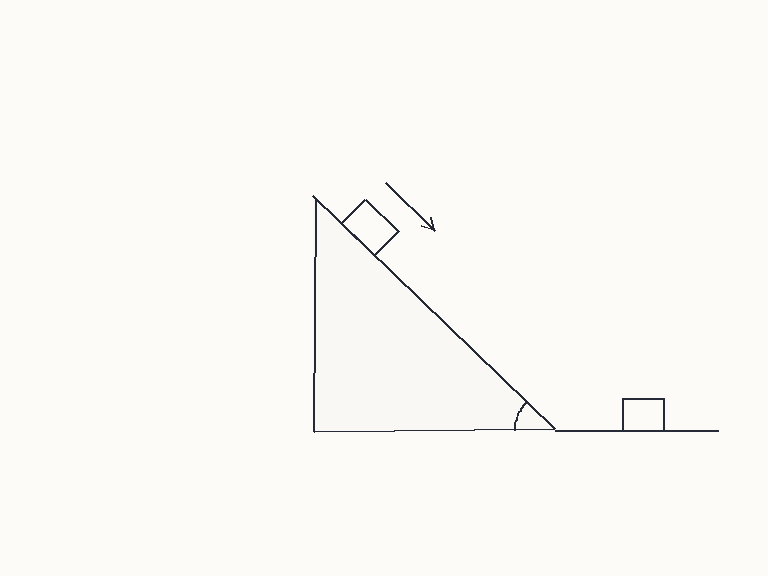block: (339, 197, 400, 258), (620, 397, 666, 432)
ramp: (311, 195, 557, 432)
